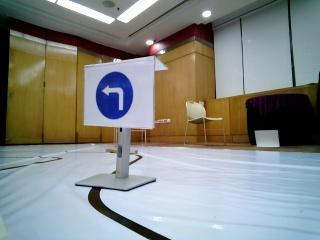left: (84, 66, 153, 123)
